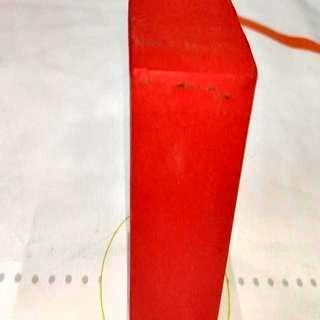redbox: (128, 1, 258, 320)
